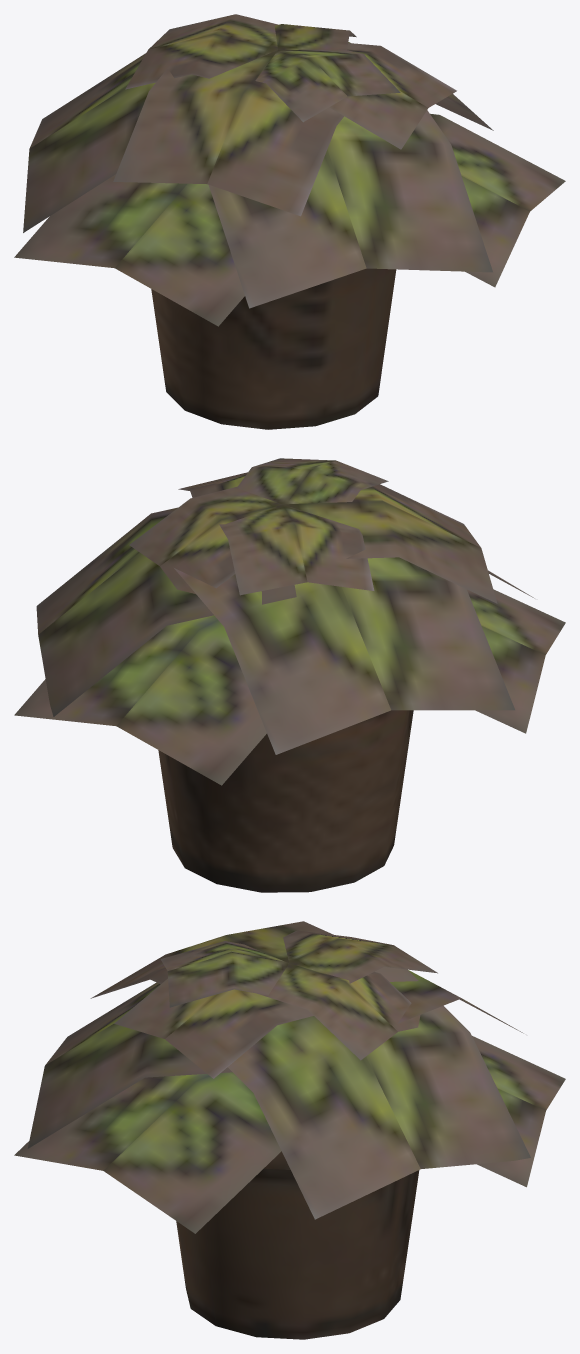
File: цветок.fbx
The picture shows the model from 3 angles, top to bottom: view 1: azimuth 30°, elevation 25°; view 2: azimuth 150°, elevation 25°; view 3: azimuth 270°, elevation 25°; orthographic projection. The views are drawn at different scales.
Visible parts, largest first — view 1: Window.006; view 2: Window.006; view 3: Window.006.
Part boxes in pixels (x1,y1,x2,y2): Window.006: [14, 14, 565, 429]; Window.006: [14, 458, 565, 892]; Window.006: [14, 921, 565, 1339].
Size of the model in its own units: 42.68 by 28.75 by 41.75.
